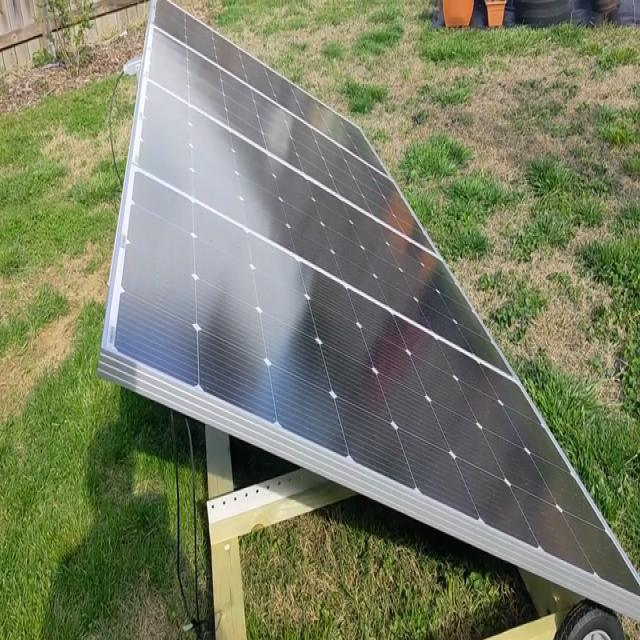Normal Solar Panel: (102, 2, 640, 593)
